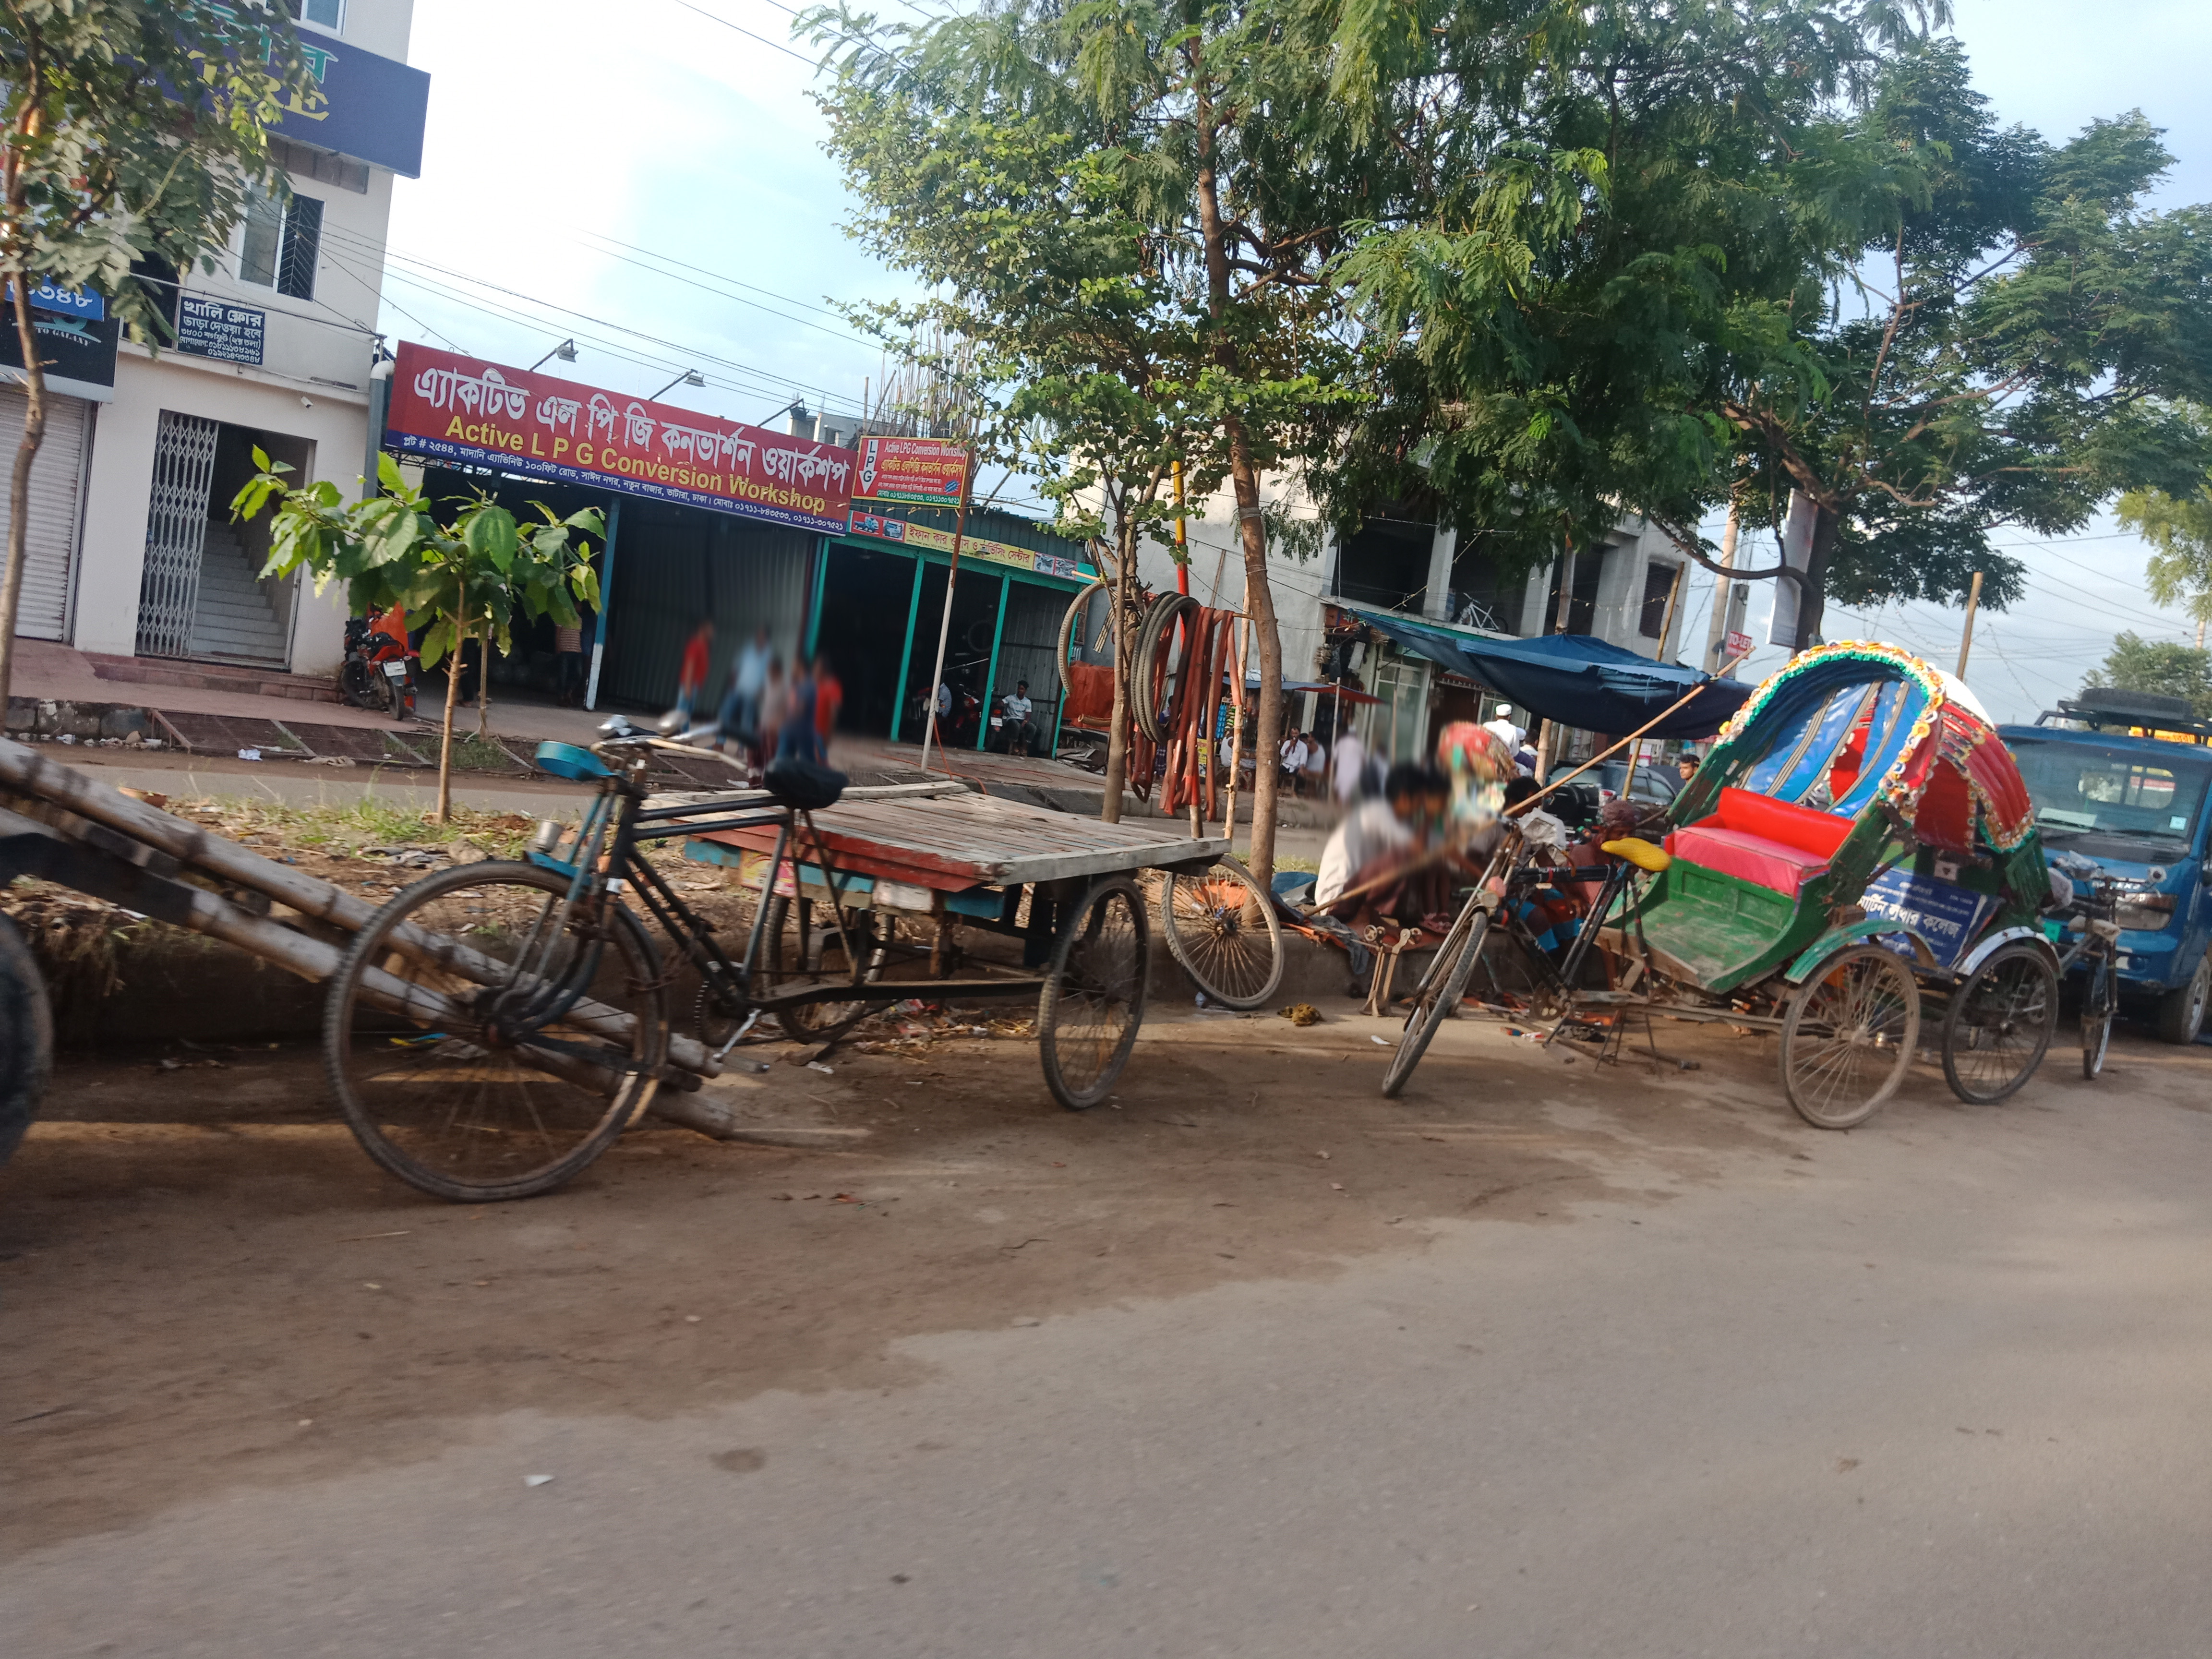rickshaw: (1381, 647, 1947, 1129), (1883, 674, 2160, 1112), (1437, 721, 1534, 836)
truck: (1993, 706, 2212, 1049)
van: (333, 709, 1223, 1202)
wheelbarrow: (0, 734, 721, 1150)
